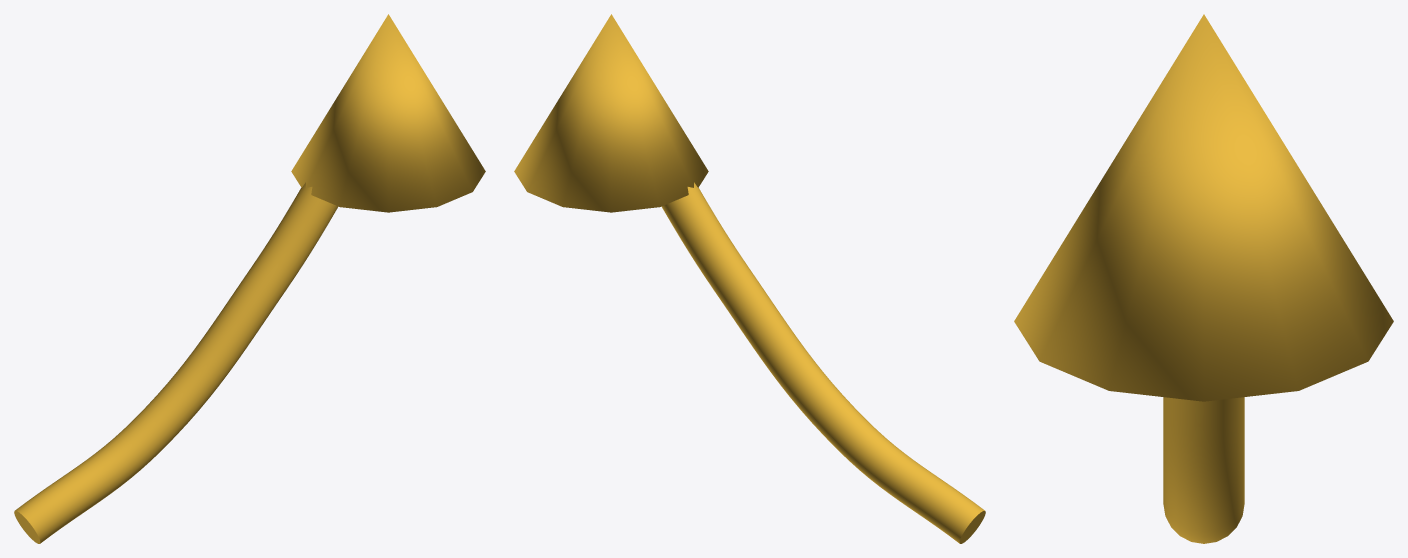
File: bugle.glb
3 views of the same model, side by side, from view 1: azimuth 30°, elevation 25°; view 2: azimuth 150°, elevation 25°; view 3: azimuth 270°, elevation 25° (orthographic). The views are drawn at different scales.
Parts seen in each view (by area): view 1: bell, bugle; view 2: bell, bugle; view 3: bell, bugle.
Part boxes in pixels (<box>): bell: <box>291,14,485,212</box>; bugle: <box>14,182,338,543</box>; bell: <box>514,14,708,212</box>; bugle: <box>661,182,985,543</box>; bell: <box>1014,14,1393,401</box>; bugle: <box>1163,397,1244,543</box>.
Size of the model in its own units: 0.7534 by 0.7018 by 0.28.
